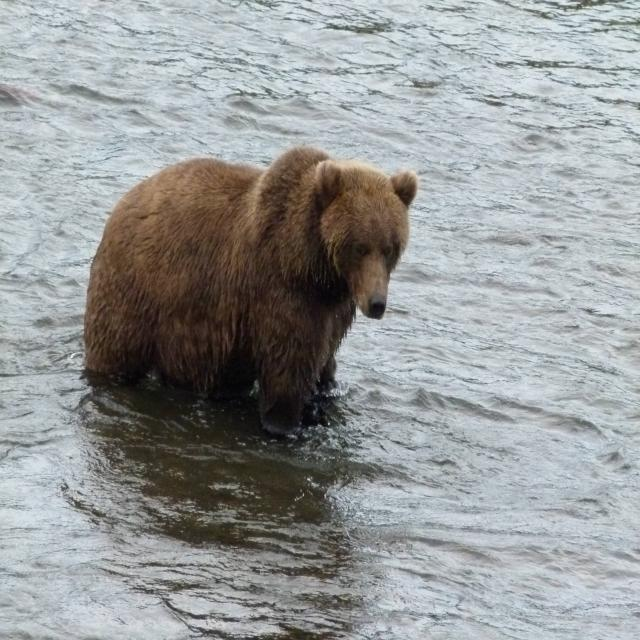bear face: (88, 147, 418, 393)
